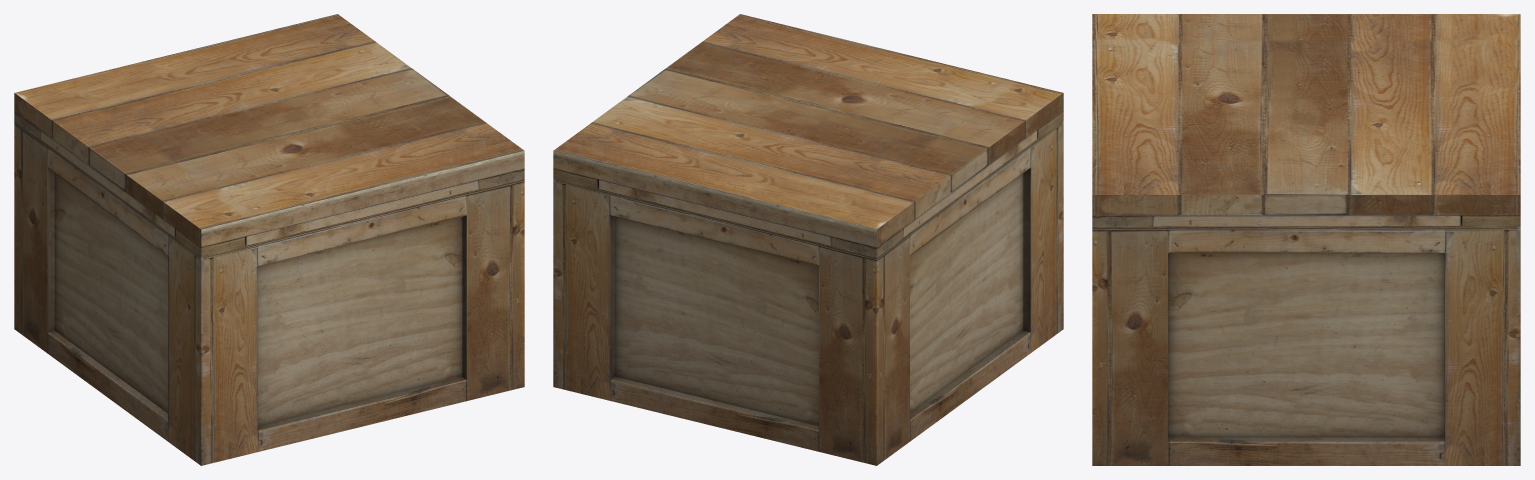
File: crate02.FBX
3 views of the same model, side by side, from view 1: azimuth 30°, elevation 25°; view 2: azimuth 150°, elevation 25°; view 3: azimuth 270°, elevation 25° (orthographic). The views are drawn at different scales.
Parts seen in each view (by area): view 1: crate02; view 2: crate02; view 3: crate02.
Boxes of the visible parts, <box> form: crate02: <box>14,14,524,465</box>; crate02: <box>553,14,1063,465</box>; crate02: <box>1092,14,1520,465</box>.
Size of the model in its own units: 54.97 by 38.41 by 54.97.
